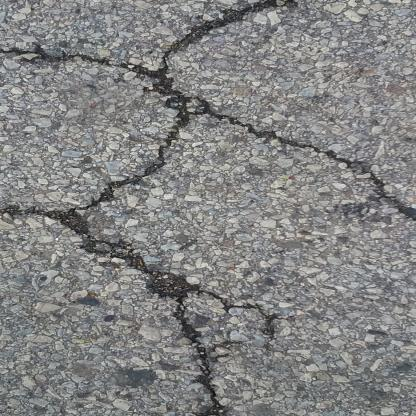Cracks: (211, 100, 416, 289), (0, 40, 200, 222), (66, 226, 251, 416), (184, 0, 376, 36)
